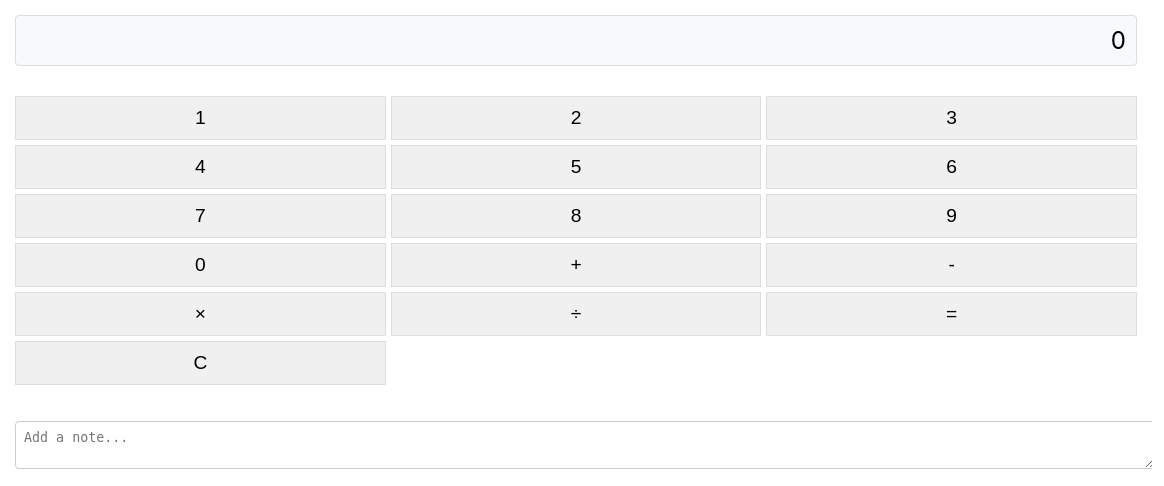
Test: BasicCalculator Component › performs addition correctly
Simulation of clicking buttons to perform addition
Click the button "2" at (576, 118), box [391,96,761,140]
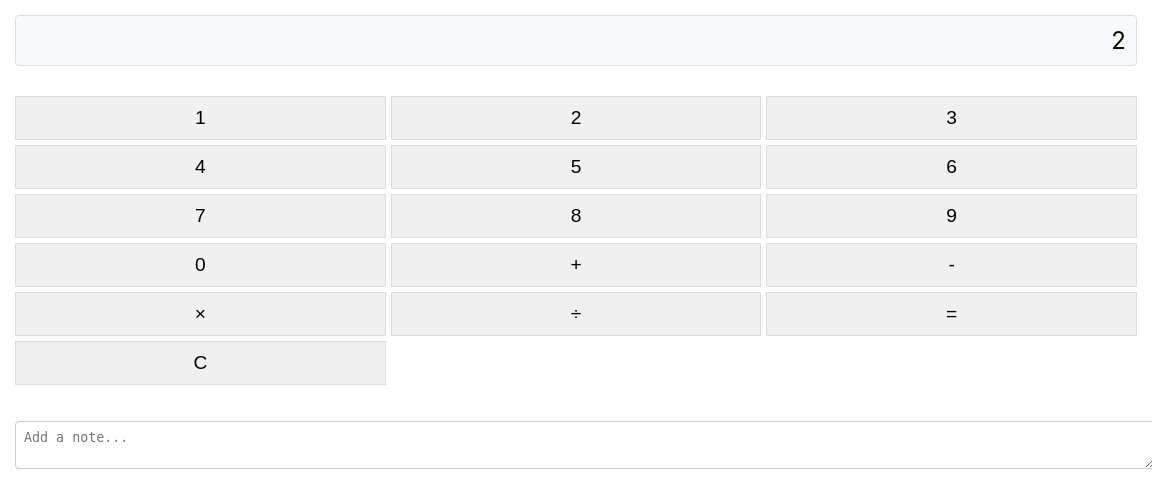
Click the button "+" at (576, 265), box [391,243,761,287]
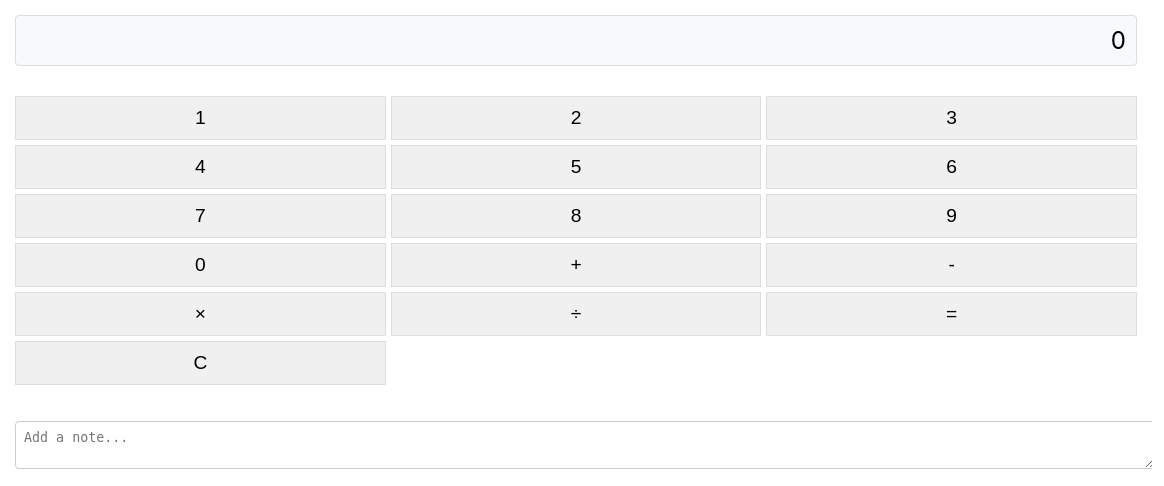
Click the button "3" at (952, 118), box [766,96,1137,140]
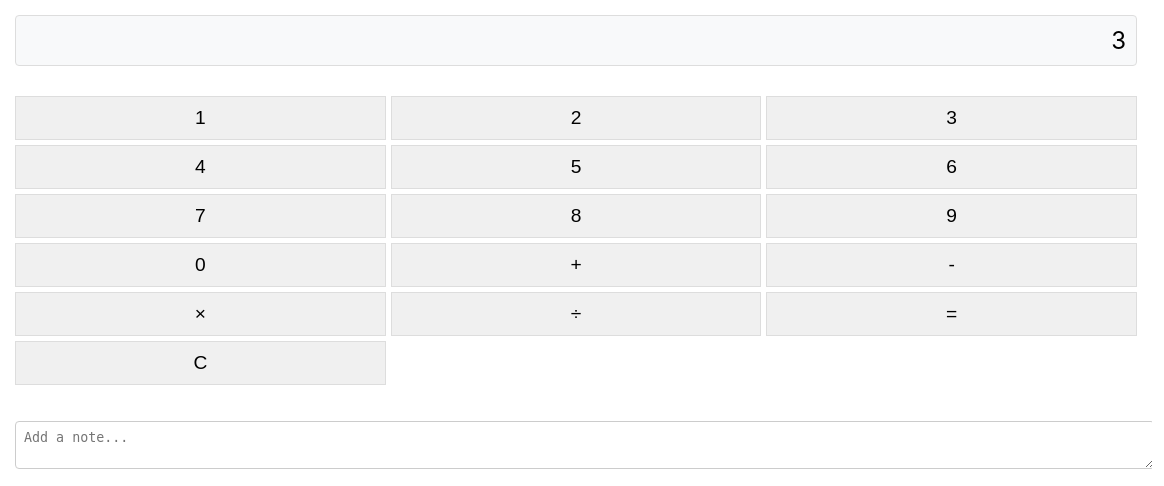
Click the button "=" at (952, 314), box [766,292,1137,336]
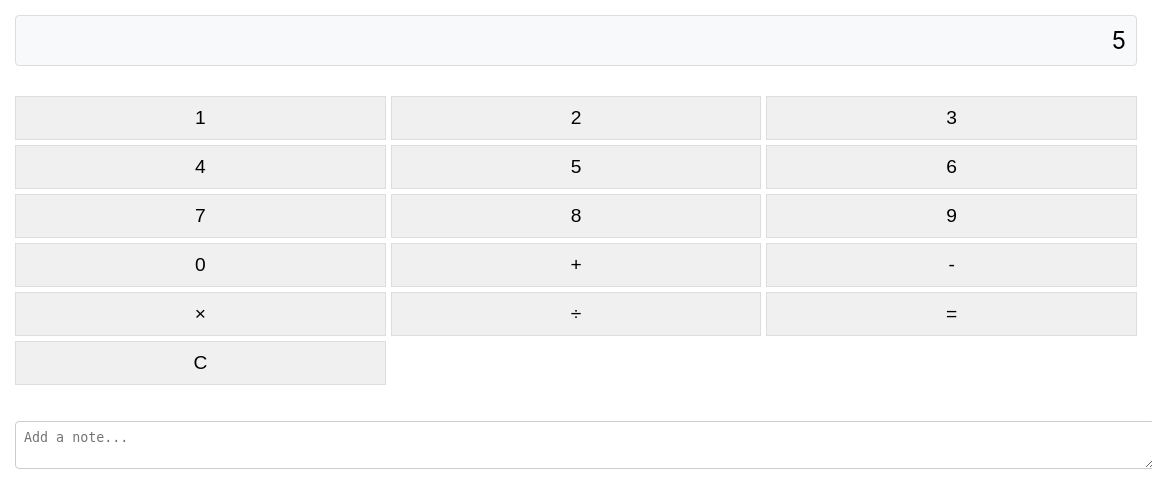
Expected: the text with test id "calculator-display" reads "5", [1112,26,1126,55]
